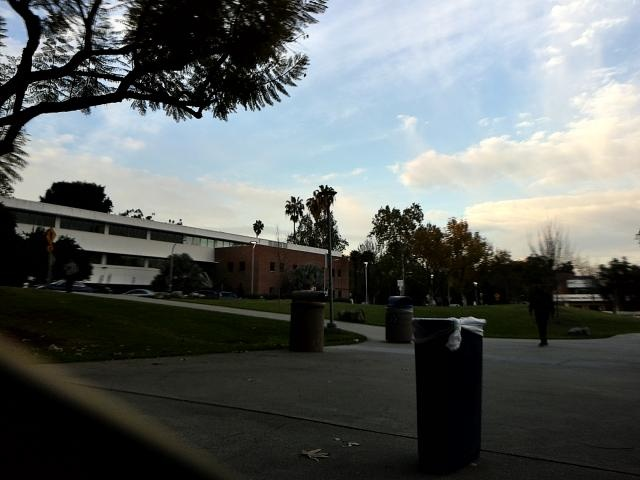trashcan_open: (409, 317, 491, 465)
